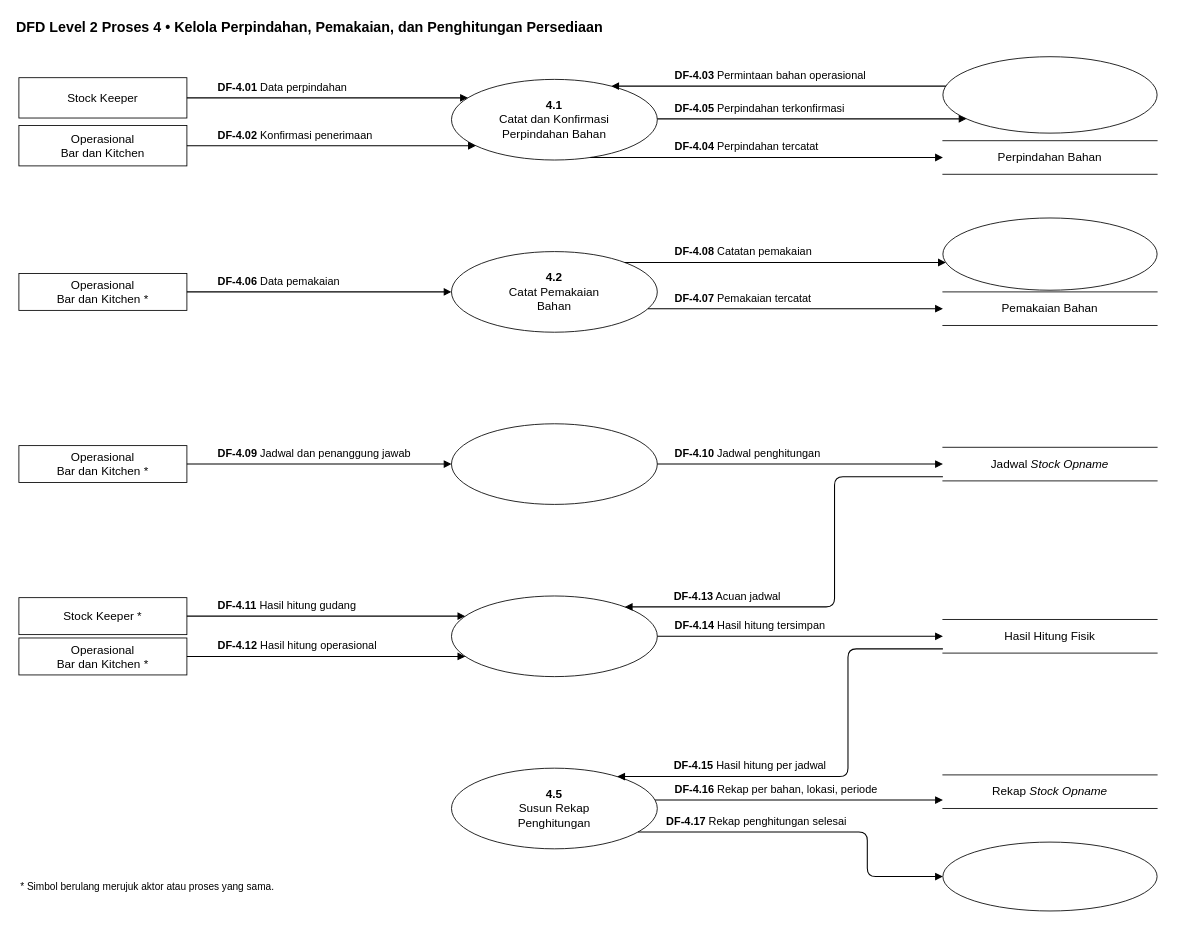
The diagram is 1188 pixels wide and 926 high, and some of its shapes have lost their labels. Each missing label, with the centre of its shape:
3 Kelola Permintaan, Penerimaan, dan Retur Bahan: the point at 1049,94
3 Kelola Permintaan, Penerimaan, dan Retur Bahan *: the point at 1049,253
4.3 Jadwalkan Penghitungan Fisik: the point at 554,463
4.4 Catat Hasil Penghitungan Fisik: the point at 554,636
5 Kelola Selisih, Koreksi, dan Arsip Persediaan: the point at 1049,876
